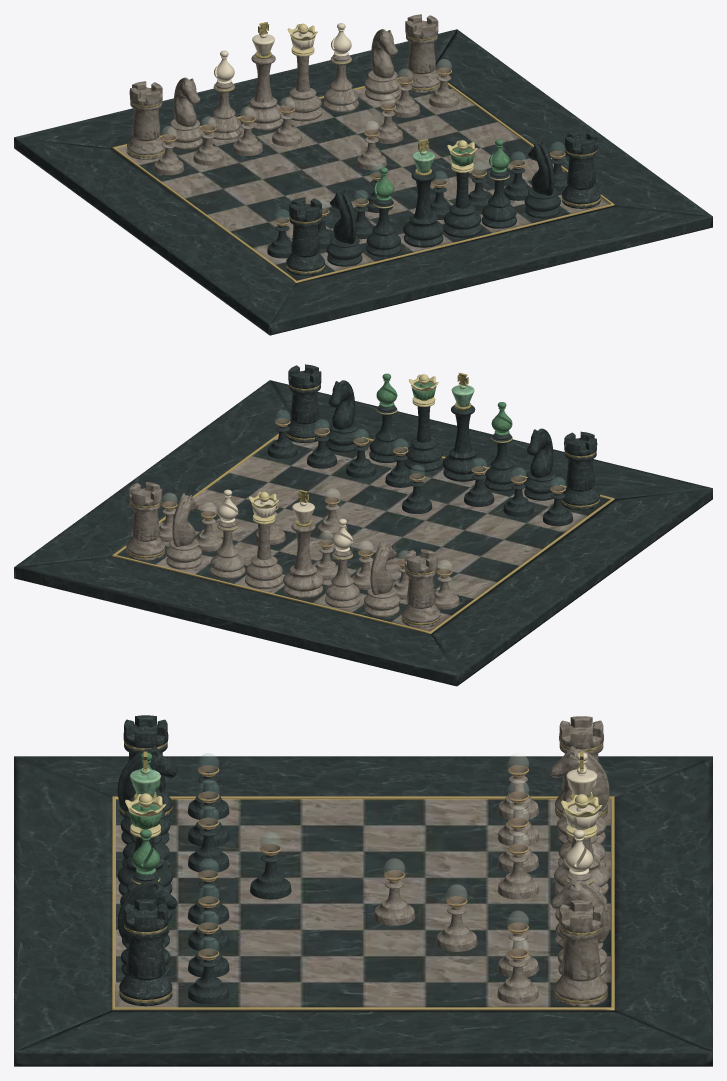
File: ABeautifulGame.glb
3 views of the same model, one above another, from view 1: azimuth 30°, elevation 25°; view 2: azimuth 150°, elevation 25°; view 3: azimuth 270°, elevation 25° (orthographic). The views are drawn at different scales.
Parts seen in each view (by area): view 1: Chessboard, Pawn_Body_Shared (×13), Castle_B2, Castle_B1, Castle_W2, King_B, Castle_W1, Queen_B, King_W, Queen_W, Knight_W1, Knight_B1 (+6 smaller); view 2: Chessboard, Pawn_Body_Shared (×13), Castle_W2, Castle_W1, Castle_B1, King_W, Castle_B2, King_B, Queen_W, Queen_B, Knight_W2, Knight_W1 (+6 smaller); view 3: Chessboard, Pawn_Body_Shared (×16), Castle_B2, Castle_W1, Castle_B1, Castle_W2, Knight_B1, Knight_W2, King_W, King_B, Queen_B, Queen_W (+6 smaller).
Boxes of the visible parts, bbox=[...] form: Chessboard: bbox=[14, 29, 712, 335]; Pawn_Body_Shared (×13): bbox=[154, 67, 531, 258]; Castle_B2: bbox=[562, 130, 600, 208]; Castle_B1: bbox=[286, 197, 324, 276]; Castle_W2: bbox=[127, 81, 165, 159]; King_B: bbox=[403, 138, 443, 247]; Castle_W1: bbox=[403, 14, 440, 92]; Queen_B: bbox=[443, 140, 481, 237]; King_W: bbox=[243, 22, 283, 130]; Queen_W: bbox=[284, 23, 322, 121]; Knight_W1: bbox=[364, 29, 400, 101]; Knight_B1: bbox=[326, 190, 362, 266]; Chessboard: bbox=[14, 380, 712, 686]; Pawn_Body_Shared (×13): bbox=[195, 418, 573, 609]; Castle_W2: bbox=[401, 549, 440, 627]; Castle_W1: bbox=[126, 482, 165, 560]; Castle_B1: bbox=[561, 431, 599, 510]; King_W: bbox=[283, 489, 323, 598]; Castle_B2: bbox=[286, 364, 323, 442]; King_B: bbox=[442, 373, 483, 481]; Queen_W: bbox=[244, 491, 283, 588]; Queen_B: bbox=[404, 374, 442, 471]; Knight_W2: bbox=[364, 541, 400, 617]; Knight_W1: bbox=[166, 493, 201, 569]; Chessboard: bbox=[14, 756, 712, 1066]; Pawn_Body_Shared (×16): bbox=[187, 765, 539, 1004]; Castle_B2: bbox=[119, 899, 172, 1006]; Castle_W1: bbox=[554, 900, 607, 1006]; Castle_B1: bbox=[119, 715, 172, 817]; Castle_W2: bbox=[555, 716, 607, 818]; Knight_B1: bbox=[117, 746, 177, 844]; Knight_W2: bbox=[550, 746, 609, 844]; King_W: bbox=[554, 751, 609, 895]; King_B: bbox=[117, 751, 173, 895]; Queen_B: bbox=[120, 793, 171, 920]; Queen_W: bbox=[555, 794, 607, 921].
Bounding box in the file's own units: 0.7054 × 0.169 × 0.7054.
Materials: 15 (13 with a texture image).
